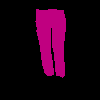pantaloni: (35, 8, 66, 78)
